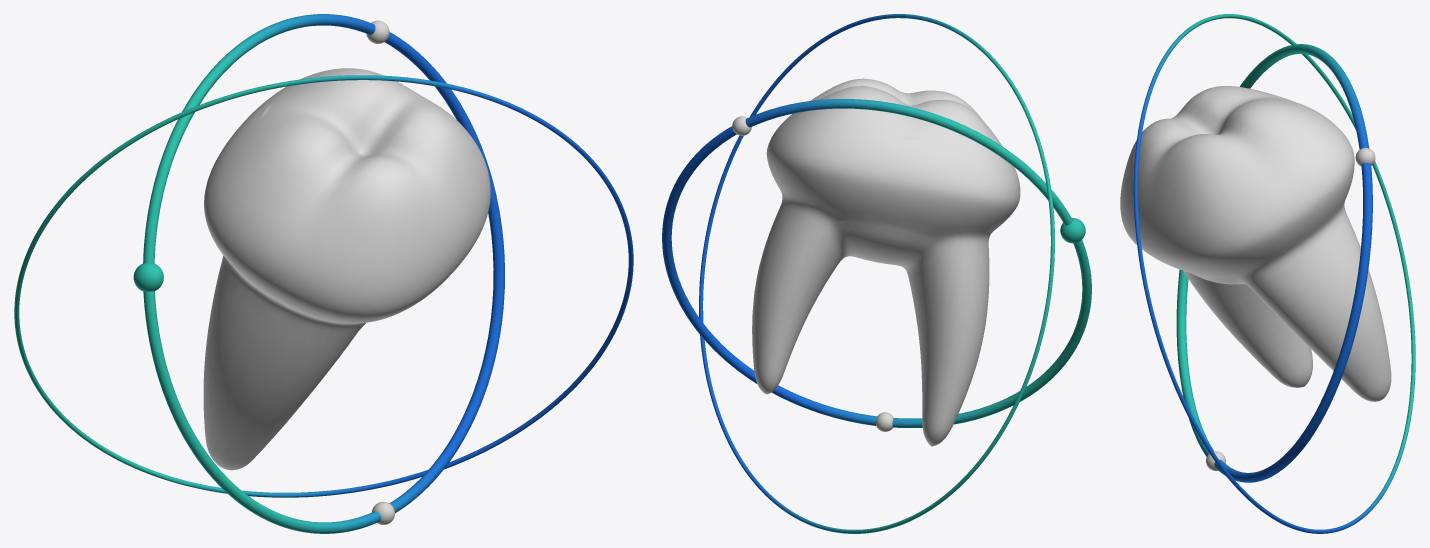
File: molar.glb
3 views of the same model, side by side, from view 1: azimuth 30°, elevation 25°; view 2: azimuth 150°, elevation 25°; view 3: azimuth 270°, elevation 25° (orthographic). The views are drawn at different scales.
Parts seen in each view (by area): view 1: Molar, RingA, RingB; view 2: Molar, RingA, RingB; view 3: Molar, RingA, RingB.
Part boxes in pixels (x1,y1,x2,y2): Molar: (203, 68, 490, 470); RingA: (133, 14, 504, 533); RingB: (14, 75, 633, 497); Molar: (752, 78, 1020, 446); RingA: (662, 99, 1091, 431); RingB: (699, 14, 1054, 533); Molar: (1120, 86, 1391, 401); RingA: (1176, 44, 1375, 482); RingB: (1133, 14, 1415, 533).
Bounding box in the file's own units: 4.24 × 4.19 × 2.53.
